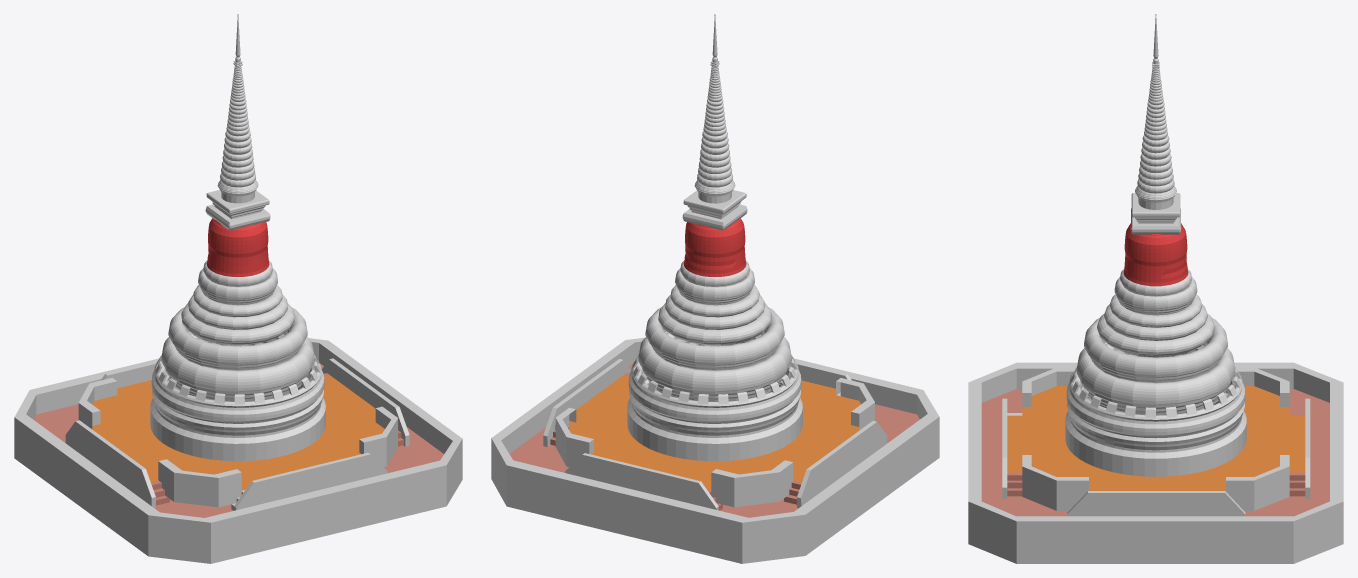
3 renders of one model, left to right at view 1: azimuth 30°, elevation 25°; view 2: azimuth 150°, elevation 25°; view 3: azimuth 270°, elevation 25°, orthographic. The views are drawn at different scales.
Visible parts, largest first — view 1: pasted__pCube51; view 2: pasted__pCube51; view 3: pasted__pCube51.
Boxes of the visible parts, left/top/right/bottom form: pasted__pCube51: left=14, top=14, right=462, bottom=563; pasted__pCube51: left=491, top=14, right=939, bottom=563; pasted__pCube51: left=968, top=14, right=1343, bottom=563.
Size of the model in its own units: 6.64 by 9.18 by 6.64.
